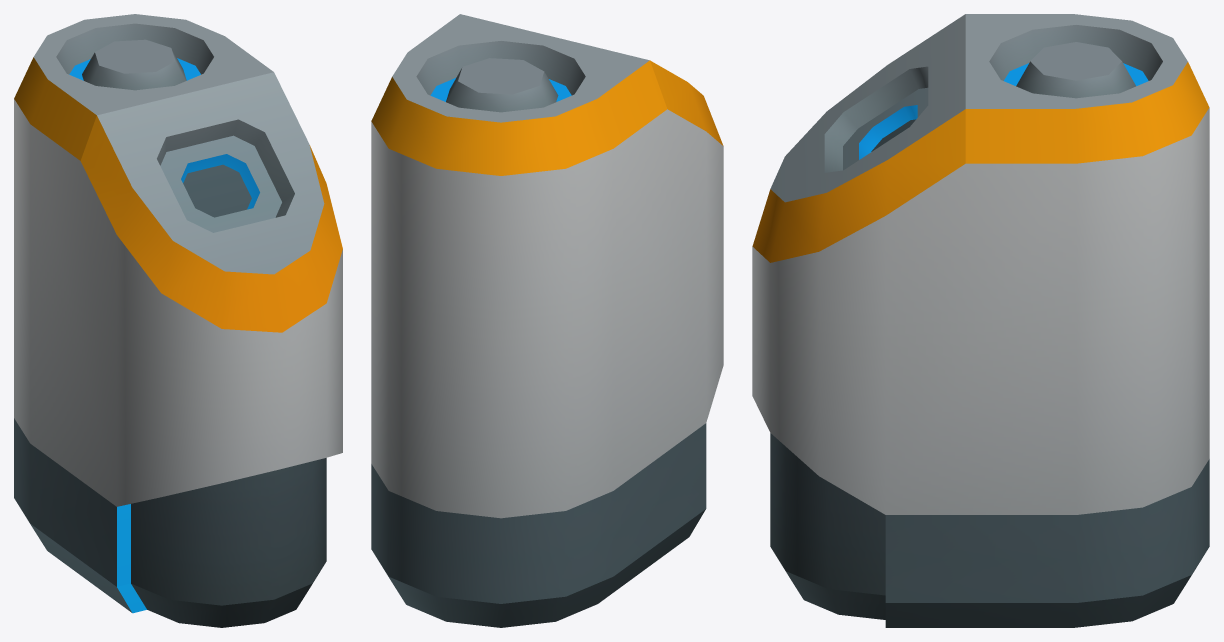
File: Battery_012.glb
3 views of the same model, side by side, from view 1: azimuth 30°, elevation 25°; view 2: azimuth 150°, elevation 25°; view 3: azimuth 270°, elevation 25° (orthographic). The views are drawn at different scales.
Visible parts, largest first — view 1: Battery_012; view 2: Battery_012; view 3: Battery_012.
Part boxes in pixels (box(x1,y1,x2,y2)): Battery_012: box(14, 14, 342, 627); Battery_012: box(371, 14, 723, 627); Battery_012: box(752, 14, 1209, 627).
Size of the model in its own units: 0.35 by 0.7514 by 0.6.
2 materials, 2 textured.
